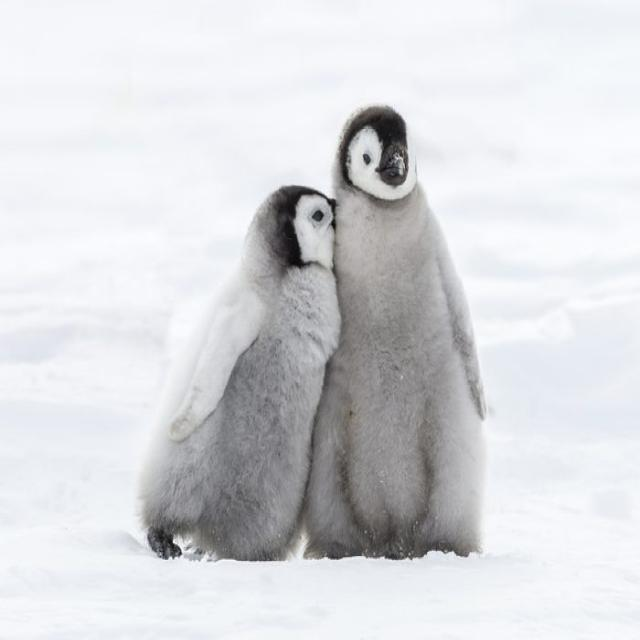Penguins: (330, 81, 490, 570), (163, 167, 341, 574)
